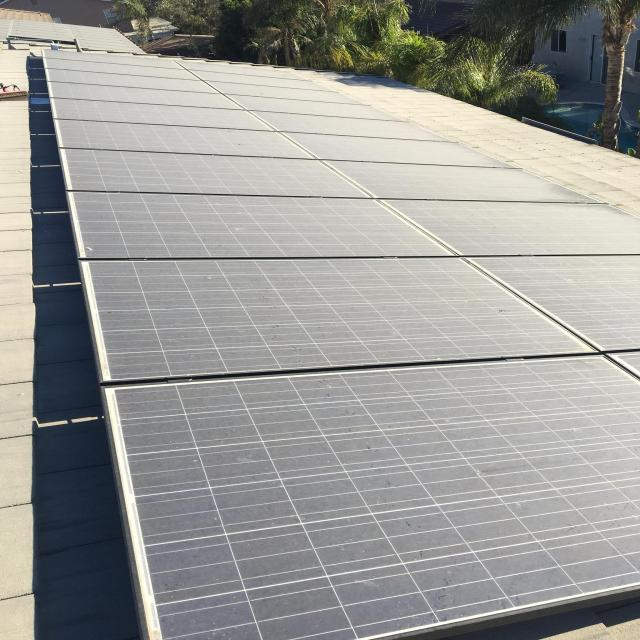dust-solar-panel: (43, 50, 638, 640)
